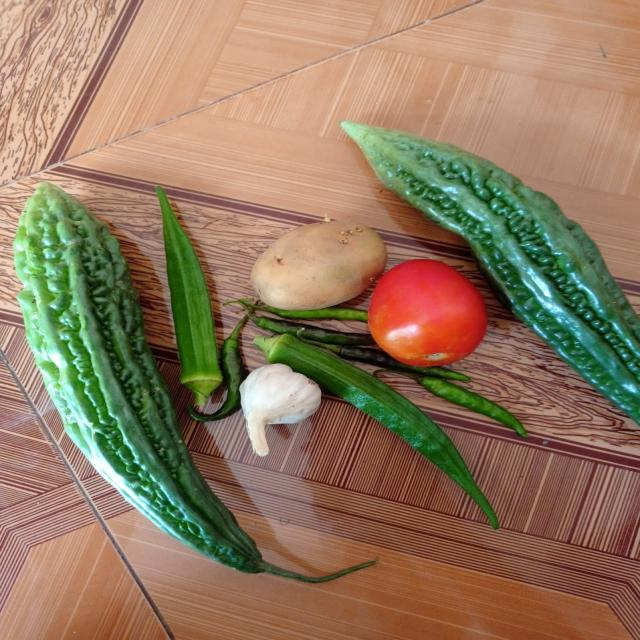Organik: (15, 182, 157, 526), (495, 184, 640, 432), (152, 188, 232, 390), (368, 260, 490, 367), (250, 217, 386, 310), (233, 362, 324, 461), (424, 376, 538, 436)
